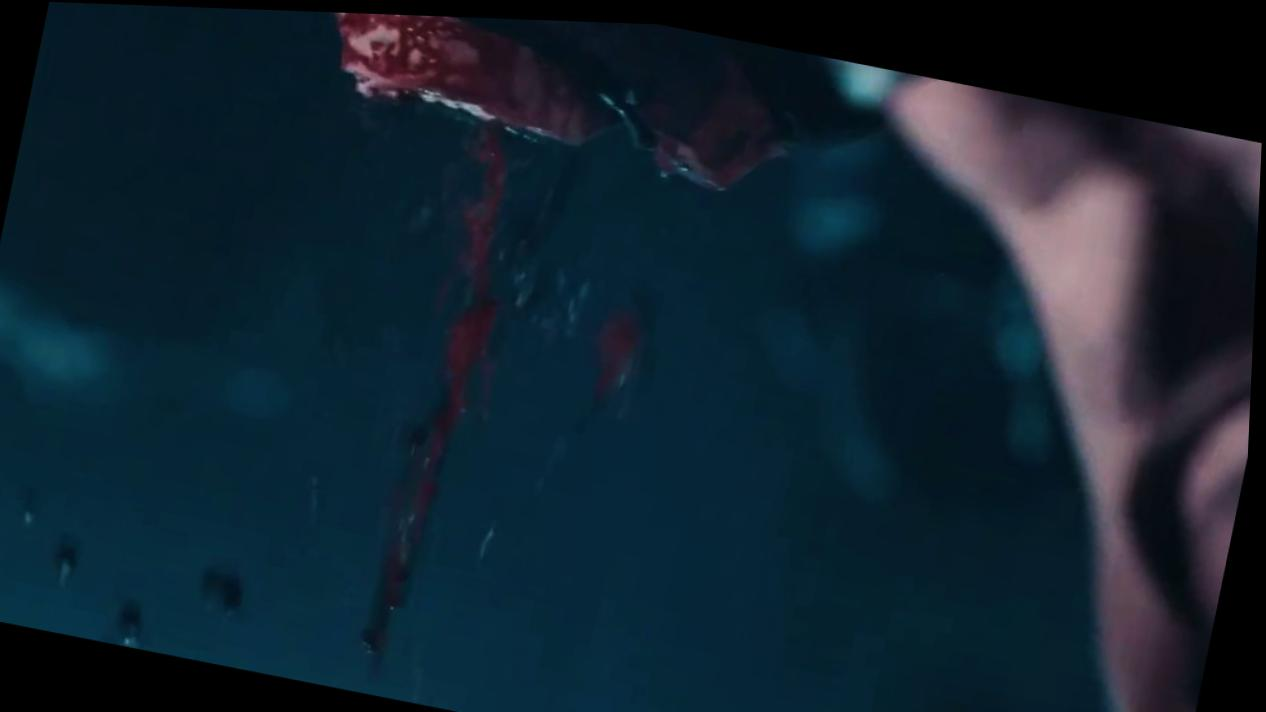Fire: (330, 10, 791, 669), (538, 300, 649, 491), (502, 229, 596, 340), (204, 566, 247, 615), (56, 535, 86, 589), (118, 600, 147, 647), (24, 487, 41, 527)
